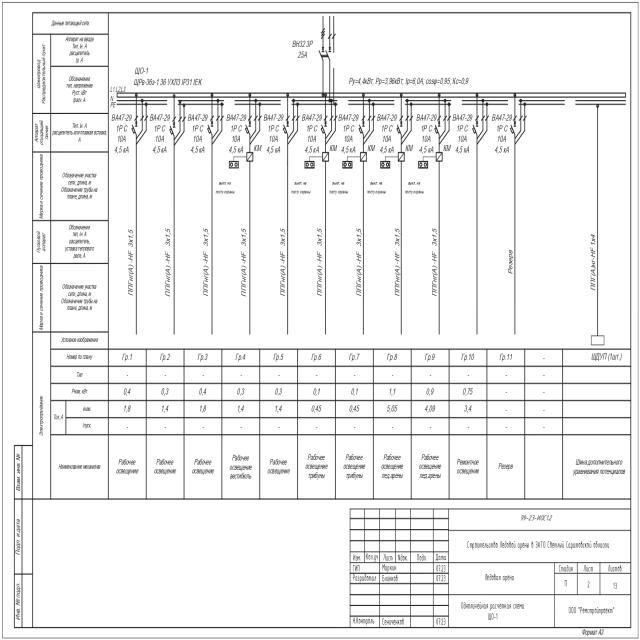-: (338, 112, 362, 156), (148, 112, 172, 156), (300, 111, 323, 156), (450, 111, 473, 156), (491, 113, 514, 157), (186, 112, 209, 156), (224, 111, 247, 155), (376, 111, 399, 155), (414, 112, 437, 156), (110, 112, 133, 156), (264, 112, 286, 156), (132, 76, 202, 88), (292, 38, 314, 59)
KM: (434, 150, 444, 162), (397, 151, 406, 163), (359, 151, 368, 163), (246, 150, 255, 162), (321, 150, 330, 162)
QF: (130, 121, 138, 138), (168, 121, 176, 138), (320, 121, 328, 137), (357, 120, 365, 136), (396, 122, 404, 138), (434, 121, 442, 137), (473, 120, 481, 136), (510, 121, 518, 137), (205, 121, 213, 137), (282, 120, 290, 136), (245, 121, 252, 138)
QS: (317, 46, 333, 62)
